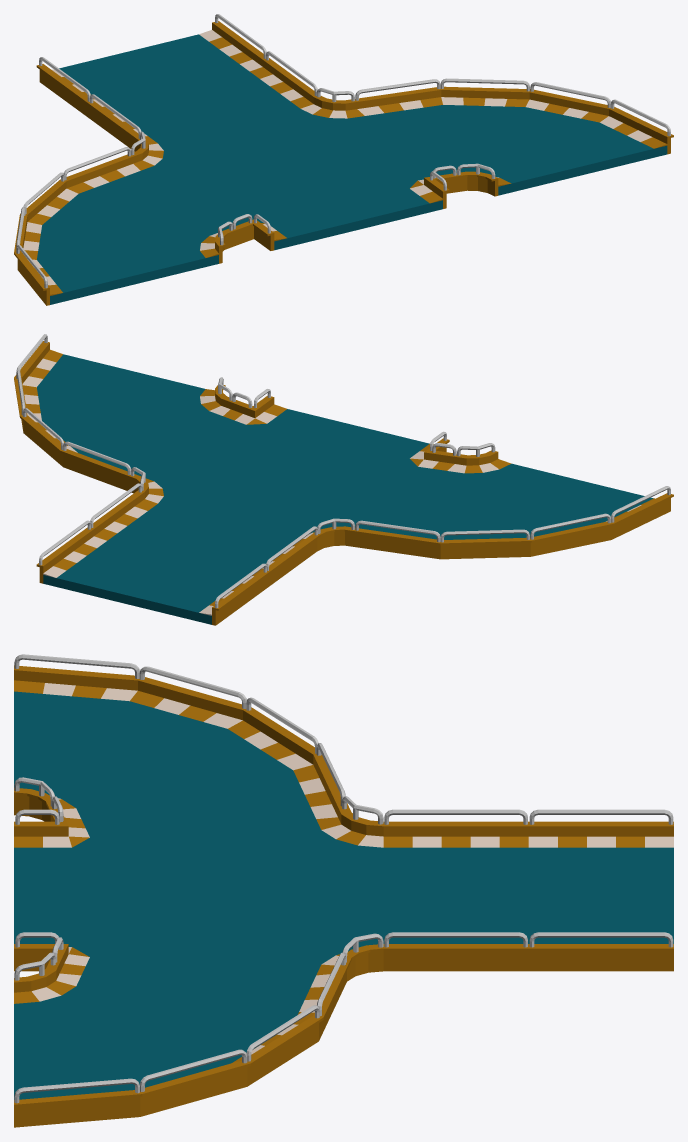
Rendered from split_1-3.FBX.
3 views of the same model, one above another, from view 1: azimuth 30°, elevation 25°; view 2: azimuth 150°, elevation 25°; view 3: azimuth 270°, elevation 25° (orthographic). The views are drawn at different scales.
Parts seen in each view (by area): view 1: split_1-3, wall_l, wall_r, curbs_l, curbs_r, wall_cl, wall_cr, curbs_cl, curbs_cr; view 2: split_1-3, wall_r, wall_l, curbs_l, wall_cr, wall_cl, curbs_cl, curbs_cr, curbs_r; view 3: split_1-3, wall_l, wall_r, curbs_r, wall_cr, wall_cl, curbs_cl, curbs_cr, curbs_l.
Part boxes in pixels (left/top/right/bottom): split_1-3: left=37, top=34, right=667, bottom=304; wall_l: left=212, top=14, right=673, bottom=154; wall_r: left=14, top=57, right=148, bottom=305; curbs_l: left=199, top=30, right=667, bottom=148; curbs_r: left=23, top=69, right=163, bottom=295; wall_cl: left=424, top=163, right=498, bottom=208; wall_cr: left=215, top=214, right=274, bottom=263; curbs_cl: left=410, top=177, right=511, bottom=203; curbs_cr: left=200, top=223, right=286, bottom=257; split_1-3: left=37, top=354, right=653, bottom=624; wall_r: left=212, top=486, right=673, bottom=625; wall_l: left=14, top=334, right=148, bottom=583; curbs_l: left=22, top=349, right=163, bottom=577; wall_cr: left=424, top=431, right=498, bottom=465; wall_cl: left=215, top=377, right=274, bottom=417; curbs_cl: left=200, top=389, right=286, bottom=424; curbs_cr: left=410, top=444, right=511, bottom=473; curbs_r: left=199, top=498, right=654, bottom=615; split_1-3: left=14, top=691, right=673, bottom=1099; wall_l: left=14, top=932, right=673, bottom=1127; wall_r: left=14, top=654, right=673, bottom=836; curbs_r: left=14, top=680, right=673, bottom=847; wall_cr: left=14, top=777, right=68, bottom=836; wall_cl: left=14, top=932, right=68, bottom=992; curbs_cl: left=14, top=947, right=89, bottom=1003; curbs_cr: left=14, top=798, right=89, bottom=847; curbs_l: left=232, top=954, right=339, bottom=1062.
Size of what is drawn, in the model's own units: 716 by 29.31 by 455.
